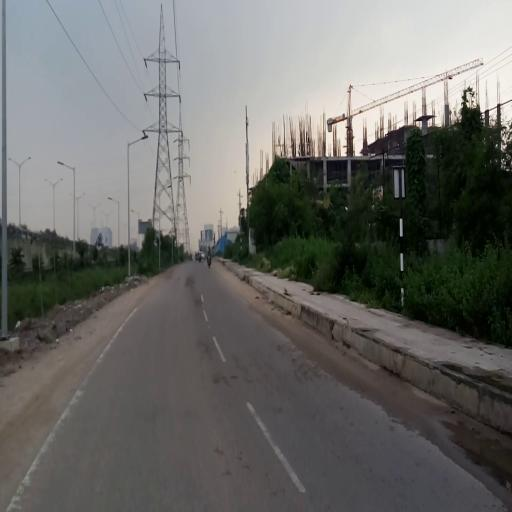street_light_0: (123, 124, 150, 155), (56, 151, 76, 177), (127, 197, 144, 223), (5, 146, 19, 174), (41, 170, 55, 196), (18, 148, 34, 170), (76, 186, 89, 206), (52, 172, 64, 192), (107, 193, 120, 209)
